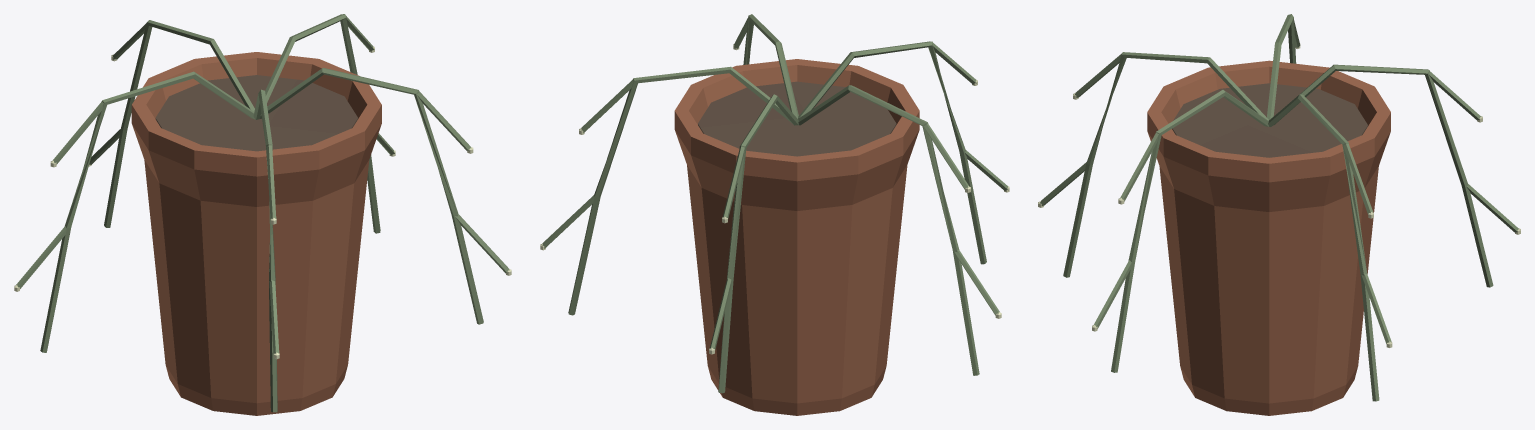
The model's file is new-baccifera.glb.
The picture shows the model from 3 angles, left to right: view 1: azimuth 30°, elevation 25°; view 2: azimuth 150°, elevation 25°; view 3: azimuth 270°, elevation 25°; orthographic projection. The views are drawn at different scales.
Visible parts, largest first — view 1: new-baccifera/review-terra-vessel, new-baccifera/review-rooted-soil, new-baccifera/stem-021, new-baccifera/stem-006, new-baccifera/stem-016, new-baccifera/stem-011, new-baccifera/stem-001, new-baccifera/petiole-022, new-baccifera/petiole-024, new-baccifera/petiole-007, new-baccifera/petiole-002, new-baccifera/petiole-009 (+1 smaller); view 2: new-baccifera/review-terra-vessel, new-baccifera/review-rooted-soil, new-baccifera/stem-011, new-baccifera/stem-021, new-baccifera/stem-001, new-baccifera/stem-016, new-baccifera/stem-006, new-baccifera/petiole-022, new-baccifera/petiole-024, new-baccifera/petiole-017, new-baccifera/petiole-019, new-baccifera/petiole-012; view 3: new-baccifera/review-terra-vessel, new-baccifera/review-rooted-soil, new-baccifera/stem-016, new-baccifera/stem-006, new-baccifera/stem-001, new-baccifera/stem-011, new-baccifera/stem-021, new-baccifera/petiole-012, new-baccifera/petiole-014, new-baccifera/petiole-007, new-baccifera/petiole-009.
Part boxes in pixels (x1,y1,x2,y2): new-baccifera/review-terra-vessel: (131,52,381,415); new-baccifera/review-rooted-soil: (155,75,358,151); new-baccifera/stem-021: (40,71,254,352); new-baccifera/stem-006: (260,68,483,324); new-baccifera/stem-016: (104,20,254,227); new-baccifera/stem-011: (265,14,380,233); new-baccifera/stem-001: (253,89,277,412); new-baccifera/petiole-022: (52,101,103,164); new-baccifera/petiole-024: (16,226,66,288); new-baccifera/petiole-007: (417,91,471,151); new-baccifera/petiole-002: (266,145,276,219); new-baccifera/petiole-009: (455,214,509,273); new-baccifera/review-terra-vessel: (674,59,919,415); new-baccifera/review-rooted-soil: (698,81,896,156); new-baccifera/stem-011: (568,66,793,315); new-baccifera/stem-021: (798,85,979,375); new-baccifera/stem-001: (798,41,986,264); new-baccifera/stem-016: (718,94,798,393); new-baccifera/stem-006: (743,14,798,118); new-baccifera/petiole-022: (924,123,969,189); new-baccifera/petiole-024: (954,250,999,315); new-baccifera/petiole-017: (722,146,744,218); new-baccifera/petiole-019: (710,278,731,350); new-baccifera/petiole-012: (581,79,633,132); new-baccifera/review-terra-vessel: (1147,60,1390,415); new-baccifera/review-rooted-soil: (1172,83,1367,157); new-baccifera/stem-016: (1274,64,1493,287); new-baccifera/stem-006: (1111,90,1268,372); new-baccifera/stem-001: (1063,52,1268,277); new-baccifera/stem-011: (1268,94,1379,401); new-baccifera/stem-021: (1267,14,1296,119); new-baccifera/petiole-012: (1343,143,1373,214); new-baccifera/petiole-014: (1361,273,1391,343); new-baccifera/petiole-007: (1120,133,1158,201); new-baccifera/petiole-009: (1093,260,1131,328).
Bounding box in the file's own units: 0.3737 × 0.2666 × 0.3759.
4 materials, 4 textured.
